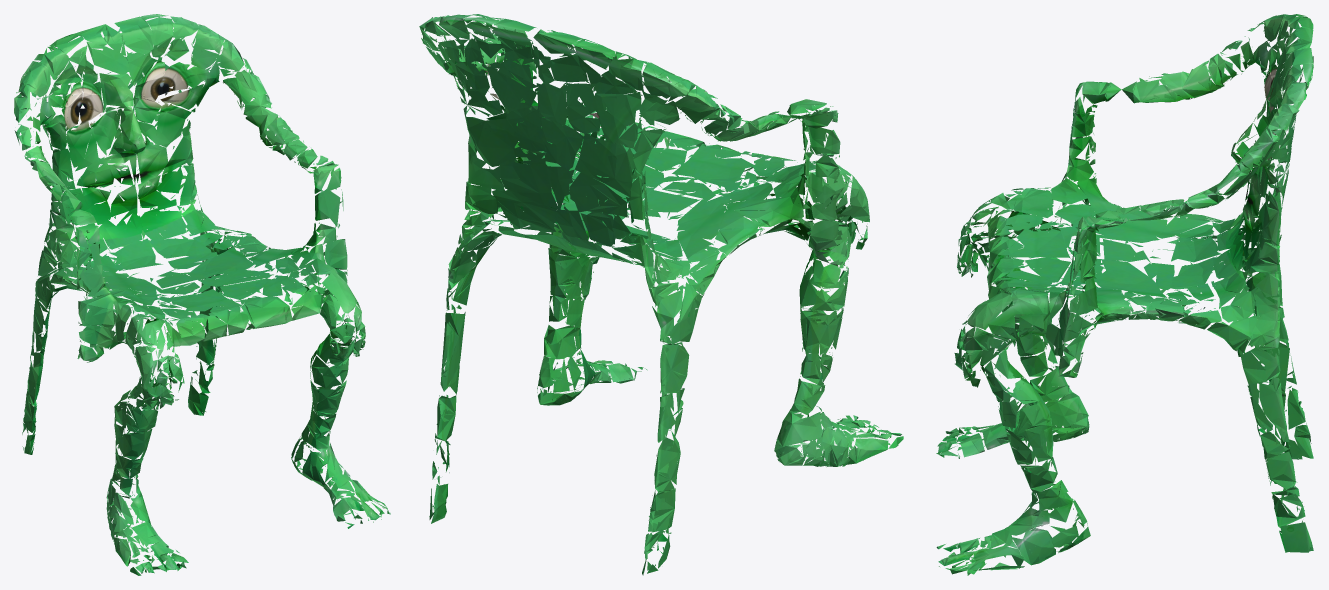
The model's file is KarkerkarKurkur.glb.
The picture shows the model from 3 angles, left to right: view 1: azimuth 30°, elevation 25°; view 2: azimuth 150°, elevation 25°; view 3: azimuth 270°, elevation 25°; orthographic projection. The views are drawn at different scales.
Visible parts, largest first — view 1: KarkerkarKurkur_3, KarkerkarKurkur_2, KarkerkarKurkur_1; view 2: KarkerkarKurkur_2, KarkerkarKurkur_3, KarkerkarKurkur_1; view 3: KarkerkarKurkur_2, KarkerkarKurkur_3, KarkerkarKurkur_1.
Boxes of the visible parts, box(x1,y1,x2,y2) form: KarkerkarKurkur_3: box(16, 17, 389, 566); KarkerkarKurkur_2: box(14, 14, 384, 575); KarkerkarKurkur_1: box(14, 18, 390, 572); KarkerkarKurkur_2: box(419, 14, 903, 575); KarkerkarKurkur_3: box(431, 21, 888, 532); KarkerkarKurkur_1: box(421, 15, 892, 573); KarkerkarKurkur_2: box(936, 17, 1313, 575); KarkerkarKurkur_3: box(936, 14, 1313, 574); KarkerkarKurkur_1: box(938, 15, 1312, 570).
Size of the model in its own units: 4.18 by 6.01 by 4.5.
Materials: 1 (1 with a texture image).
